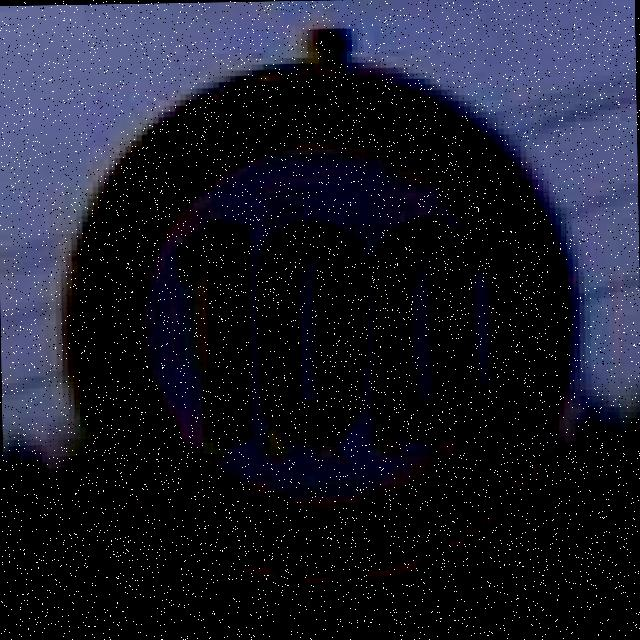Ograniczenie predkosci do 100: (51, 52, 589, 594)
